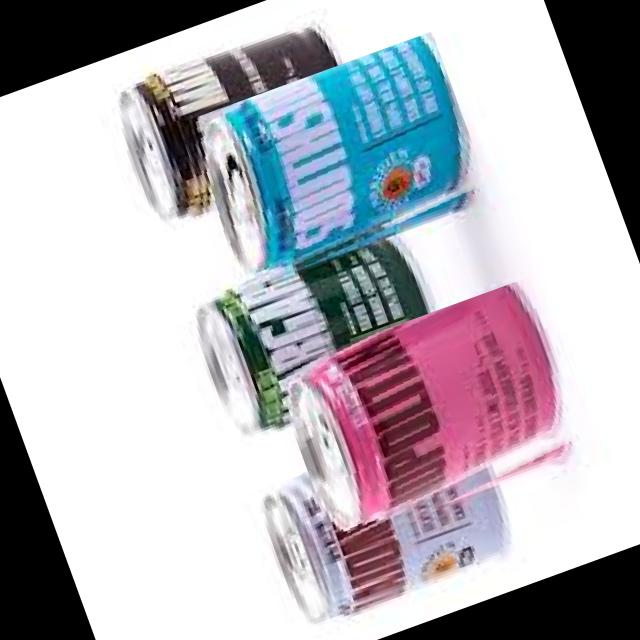Cans: (260, 276, 598, 561), (168, 30, 494, 299)
